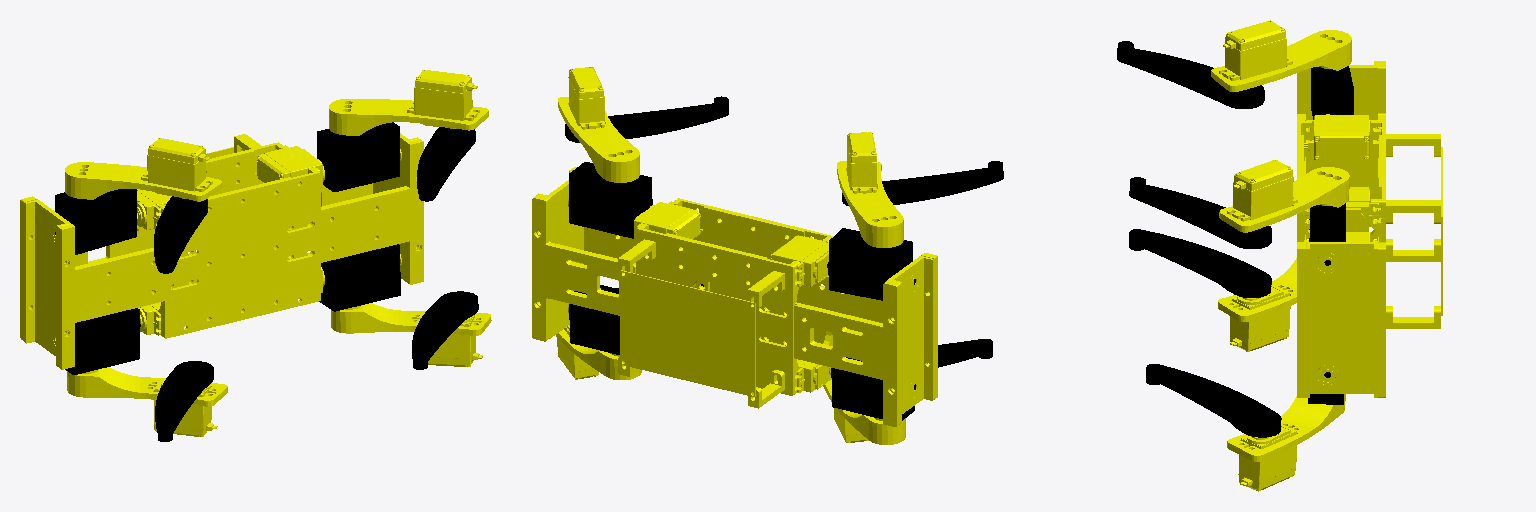
robot.urdf — NCKH_AN_and_NHAN:
<?xml version="1.0" encoding="utf-8"?>
<!-- This URDF was automatically created by SolidWorks to URDF Exporter! Originally created by [author] ([email redacted]) 
     Commit Version: 1.6.0-4-g7f85cfe  Build Version: 1.6.7995.38578
     For more information, please see http://wiki.ros.org/sw_urdf_exporter -->
<robot
  name="NCKH_AN_and_NHAN">
  <link
    name="base_link">
    <inertial>
      <origin
        xyz="-2.06930624298254E-05 0.0314717667121343 -7.1652482863914E-05"
        rpy="-1.570796 3.141593 0" />
      <mass
        value="0.466823121650161" />
      <inertia
        ixx="0.00031602679934993"
        ixy="9.49707580620035E-09"
        ixz="-1.57354450694799E-10"
        iyy="0.000666280699222349"
        iyz="-1.95989888879497E-21"
        izz="0.000429277643250015" />
    </inertial>
    <visual>
      <origin
        xyz="0 0 0"
        rpy="0 0 0" />
      <geometry>
        <mesh
          filename="package://NCKH_AN_and_NHAN/meshes/base_link.STL" />
      </geometry>
      <material
        name="yellow">
        <color
          rgba="1 1 0 1" />
      </material>
    </visual>
    <collision>
      <origin
        xyz="0 0 0"
        rpy="0 0 0" />
      <geometry>
        <mesh
          filename="package://NCKH_AN_and_NHAN/meshes/base_link.STL" />
      </geometry>
    </collision>
  </link>
  <link
    name="wheel1">
    <inertial>
      <origin
        xyz="0.0376546399921932 2.95915550945838E-05 0.00695809139390947"
        rpy="0 0 0" />
      <mass
        value="0.0485512367202346" />
      <inertia
        ixx="8.94595002943724E-06"
        ixy="5.5386583024537E-10"
        ixz="1.3023102901899E-07"
        iyy="1.85801782098987E-05"
        iyz="-1.68966995950272E-08"
        izz="1.4607199563483E-05" />
    </inertial>
    <visual>
      <origin
        xyz="0 0 0"
        rpy="0 0 0" />
      <geometry>
        <mesh
          filename="package://NCKH_AN_and_NHAN/meshes/wheel1.STL" />
      </geometry>
      <material
        name="black">
        <color
          rgba="0 0 0 1" />
      </material>
    </visual>
    <collision>
      <origin
        xyz="0 0 0"
        rpy="0 0 0" />
      <geometry>
        <mesh
          filename="package://NCKH_AN_and_NHAN/meshes/wheel1.STL" />
      </geometry>
    </collision>
  </link>
  <link
    name="wheel1.1">
    <inertial>
      <origin
        xyz="0.0326167772045229 -0.0409063788365546 0.00326118693431166"
        rpy="0 0 0" />
      <mass
        value="0.0586013806261611" />
      <inertia
        ixx="2.42073104193029E-05"
        ixy="1.2484076562072E-05"
        ixz="-1.31000464940237E-06"
        iyy="1.74922513973027E-05"
        iyz="1.53621522135486E-06"
        izz="3.25882087154268E-05" />
    </inertial>
    <visual>
      <origin
        xyz="0 0 0"
        rpy="0 0 0" />
      <geometry>
        <mesh
          filename="package://NCKH_AN_and_NHAN/meshes/wheel1.1.STL" />
      </geometry>
      <material
        name="yellow">
      </material>
    </visual>
    <collision>
      <origin
        xyz="0 0 0"
        rpy="0 0 0" />
      <geometry>
        <mesh
          filename="package://NCKH_AN_and_NHAN/meshes/wheel1.1.STL" />
      </geometry>
    </collision>
  </link>
  <link
    name="wheel1.2">
    <inertial>
      <origin
        xyz="-0.0256323732966148 -0.0336676766551409 -0.00674833913750822"
        rpy="0 0 0" />
      <mass
        value="0.0244253480243519" />
      <inertia
        ixx="2.14587507838223E-05"
        ixy="-1.39714823081407E-05"
        ixz="1.07320268759818E-08"
        iyy="1.13439089219117E-05"
        iyz="6.09957033675581E-08"
        izz="3.25317818276034E-05" />
    </inertial>
    <visual>
      <origin
        xyz="0 0 0"
        rpy="0 0 0" />
      <geometry>
        <mesh
          filename="package://NCKH_AN_and_NHAN/meshes/wheel1.2.STL" />
      </geometry>
      <material
        name="black">
      </material>
    </visual>
    <collision>
      <origin
        xyz="0 0 0"
        rpy="0 0 0" />
      <geometry>
        <mesh
          filename="package://NCKH_AN_and_NHAN/meshes/wheel1.2.STL" />
      </geometry>
    </collision>
  </link>
  <link
    name="wheel2">
    <inertial>
      <origin
        xyz="-0.0377509355922704 0.000154458556637992 0.00695643953776238"
        rpy="0 0 0" />
      <mass
        value="0.0485512367210368" />
      <inertia
        ixx="8.94595002825872E-06"
        ixy="-4.40959895425951E-09"
        ixz="-1.98598491017381E-07"
        iyy="1.86198269215805E-05"
        iyz="-8.81744174576194E-08"
        izz="1.46506201499069E-05" />
    </inertial>
    <visual>
      <origin
        xyz="0 0 0"
        rpy="0 0 0" />
      <geometry>
        <mesh
          filename="package://NCKH_AN_and_NHAN/meshes/wheel2.STL" />
      </geometry>
      <material
        name="black">
      </material>
    </visual>
    <collision>
      <origin
        xyz="0 0 0"
        rpy="0 0 0" />
      <geometry>
        <mesh
          filename="package://NCKH_AN_and_NHAN/meshes/wheel2.STL" />
      </geometry>
    </collision>
  </link>
  <link
    name="wheel2.1">
    <inertial>
      <origin
        xyz="0.0405617265917802 -0.0331892618811079 0.00385223908064193"
        rpy="0 0 0" />
      <mass
        value="0.0584560819715106" />
      <inertia
        ixx="1.87591480437266E-05"
        ixy="1.26982610846214E-05"
        ixz="-1.81524325395658E-06"
        iyy="2.28852682585367E-05"
        iyz="1.38665370525832E-06"
        izz="3.24529801909875E-05" />
    </inertial>
    <visual>
      <origin
        xyz="0 0 0"
        rpy="0 0 0" />
      <geometry>
        <mesh
          filename="package://NCKH_AN_and_NHAN/meshes/wheel2.1.STL" />
      </geometry>
      <material
        name="yellow">
      </material>
    </visual>
    <collision>
      <origin
        xyz="0 0 0"
        rpy="0 0 0" />
      <geometry>
        <mesh
          filename="package://NCKH_AN_and_NHAN/meshes/wheel2.1.STL" />
      </geometry>
    </collision>
  </link>
  <link
    name="wheel2.2">
    <inertial>
      <origin
        xyz="-0.0298704640605857 -0.0299766235167066 -0.00422347846447647"
        rpy="0 0 0" />
      <mass
        value="0.0244512661636109" />
      <inertia
        ixx="1.75981230081107E-05"
        ixy="-1.48344361637171E-05"
        ixz="2.74368453439243E-07"
        iyy="1.52618120725948E-05"
        iyz="3.59361354474809E-07"
        izz="3.25737862138548E-05" />
    </inertial>
    <visual>
      <origin
        xyz="0 0 0"
        rpy="0 0 0" />
      <geometry>
        <mesh
          filename="package://NCKH_AN_and_NHAN/meshes/wheel2.2.STL" />
      </geometry>
      <material
        name="black">
      </material>
    </visual>
    <collision>
      <origin
        xyz="0 0 0"
        rpy="0 0 0" />
      <geometry>
        <mesh
          filename="package://NCKH_AN_and_NHAN/meshes/wheel2.2.STL" />
      </geometry>
    </collision>
  </link>
  <link
    name="wheel3">
    <inertial>
      <origin
        xyz="0.0376546399932008 -0.000194069662087827 -0.00695544717455106"
        rpy="0 0 0" />
      <mass
        value="0.0485512367213061" />
      <inertia
        ixx="8.9459500278715E-06"
        ixy="-3.63231987734262E-09"
        ixz="-1.30181542689937E-07"
        iyy="1.85771593477179E-05"
        iyz="-1.10771177579481E-07"
        izz="1.46102184243876E-05" />
    </inertial>
    <visual>
      <origin
        xyz="0 0 0"
        rpy="0 0 0" />
      <geometry>
        <mesh
          filename="package://NCKH_AN_and_NHAN/meshes/wheel3.STL" />
      </geometry>
      <material
        name="black">
      </material>
    </visual>
    <collision>
      <origin
        xyz="0 0 0"
        rpy="0 0 0" />
      <geometry>
        <mesh
          filename="package://NCKH_AN_and_NHAN/meshes/wheel3.STL" />
      </geometry>
    </collision>
  </link>
  <link
    name="wheel3.1">
    <inertial>
      <origin
        xyz="0.0409085324203588 -0.032546684342734 -0.00216566306140553"
        rpy="0 0 0" />
      <mass
        value="0.0587113268232687" />
      <inertia
        ixx="1.84154062019393E-05"
        ixy="1.27656756591413E-05"
        ixz="1.19671034086375E-06"
        iyy="2.32780108507993E-05"
        iyz="-8.86941989619872E-07"
        izz="3.27261926629517E-05" />
    </inertial>
    <visual>
      <origin
        xyz="0 0 0"
        rpy="0 0 0" />
      <geometry>
        <mesh
          filename="package://NCKH_AN_and_NHAN/meshes/wheel3.1.STL" />
      </geometry>
      <material
        name="yellow">
      </material>
    </visual>
    <collision>
      <origin
        xyz="0 0 0"
        rpy="0 0 0" />
      <geometry>
        <mesh
          filename="package://NCKH_AN_and_NHAN/meshes/wheel3.1.STL" />
      </geometry>
    </collision>
  </link>
  <link
    name="wheel3.2">
    <inertial>
      <origin
        xyz="-0.0299207598961442 -0.0296771809990849 0.00571781481646289"
        rpy="0 0 0" />
      <mass
        value="0.0244512661586145" />
      <inertia
        ixx="1.75481181214615E-05"
        ixy="-1.48334275113458E-05"
        ixz="4.68940533968834E-07"
        iyy="1.53192365452258E-05"
        iyz="5.067406505001E-07"
        izz="3.25663666788307E-05" />
    </inertial>
    <visual>
      <origin
        xyz="0 0 0"
        rpy="0 0 0" />
      <geometry>
        <mesh
          filename="package://NCKH_AN_and_NHAN/meshes/wheel3.2.STL" />
      </geometry>
      <material
        name="black">
      </material>
    </visual>
    <collision>
      <origin
        xyz="0 0 0"
        rpy="0 0 0" />
      <geometry>
        <mesh
          filename="package://NCKH_AN_and_NHAN/meshes/wheel3.2.STL" />
      </geometry>
    </collision>
  </link>
  <link
    name="wheel4">
    <inertial>
      <origin
        xyz="-0.0373348708831581 -0.000314126486332954 -0.00677907103186814"
        rpy="0 0 0" />
      <mass
        value="0.0482153982657156" />
      <inertia
        ixx="8.92090516184435E-06"
        ixy="8.2305889635407E-09"
        ixz="1.77622250097246E-07"
        iyy="1.84831778051894E-05"
        iyz="-1.84417470580417E-07"
        izz="1.45118643751175E-05" />
    </inertial>
    <visual>
      <origin
        xyz="0 0 0"
        rpy="0 0 0" />
      <geometry>
        <mesh
          filename="package://NCKH_AN_and_NHAN/meshes/wheel4.STL" />
      </geometry>
      <material
        name="black">
      </material>
    </visual>
    <collision>
      <origin
        xyz="0 0 0"
        rpy="0 0 0" />
      <geometry>
        <mesh
          filename="package://NCKH_AN_and_NHAN/meshes/wheel4.STL" />
      </geometry>
    </collision>
  </link>
  <link
    name="wheel4.1">
    <inertial>
      <origin
        xyz="0.0442410602374218 -0.0278752579218581 -0.00178420133232522"
        rpy="0 0 0" />
      <mass
        value="0.0587113266853458" />
      <inertia
        ixx="1.56844836492885E-05"
        ixy="1.19427860432043E-05"
        ixz="1.11795365787776E-06"
        iyy="2.59901182518855E-05"
        iyz="-6.61230339548773E-07"
        izz="3.27450086684504E-05" />
    </inertial>
    <visual>
      <origin
        xyz="0 0 0"
        rpy="0 0 0" />
      <geometry>
        <mesh
          filename="package://NCKH_AN_and_NHAN/meshes/wheel4.1.STL" />
      </geometry>
      <material
        name="yellow">
      </material>
    </visual>
    <collision>
      <origin
        xyz="0 0 0"
        rpy="0 0 0" />
      <geometry>
        <mesh
          filename="package://NCKH_AN_and_NHAN/meshes/wheel4.1.STL" />
      </geometry>
    </collision>
  </link>
  <link
    name="wheel4.2">
    <inertial>
      <origin
        xyz="-0.0319285525953966 -0.0274091773325302 0.00616318740578134"
        rpy="0 0 0" />
      <mass
        value="0.0244512661578749" />
      <inertia
        ixx="1.54715718726678E-05"
        ixy="-1.48338848949562E-05"
        ixz="7.44084947687132E-07"
        iyy="1.74154716857695E-05"
        iyz="7.23944229842359E-07"
        izz="3.254667778828E-05" />
    </inertial>
    <visual>
      <origin
        xyz="0 0 0"
        rpy="0 0 0" />
      <geometry>
        <mesh
          filename="package://NCKH_AN_and_NHAN/meshes/wheel4.2.STL" />
      </geometry>
      <material
        name="black">
      </material>
    </visual>
    <collision>
      <origin
        xyz="0 0 0"
        rpy="0 0 0" />
      <geometry>
        <mesh
          filename="package://NCKH_AN_and_NHAN/meshes/wheel4.2.STL" />
      </geometry>
    </collision>
  </link>



  <joint
    name="wl1.joint1"
    type="revolute">
    <origin
      xyz="-0.15399999986887 0.0196 0.045"
      rpy="0 0 0.09" />
    <parent
      link="base_link" />
    <child
      link="wheel1" />
    <axis
      xyz="-1 0 0" />
    <limit
      lower="-1.571"
      upper="1.571"
      effort="2" 
      velocity="2"/>
  </joint>

  <joint
    name="wl1.joint2"
    type="revolute">
    <origin
      xyz="0.0259999998688681 0.0002058349694006 0.0483995623117133"
      rpy="0 0 0" />
    <parent
      link="wheel1" />
    <child
      link="wheel1.1" />
    <axis
      xyz="0 0 1" />
    <limit
      lower="-1.571"
      upper="1.571"
      effort="2" 
      velocity="2"/>
  </joint>

  <joint
    name="wl1.joint3"
    type="revolute">
    <origin
      xyz="0.0513027822613403 -0.0682732325273144 -0.0121097578836928"
      rpy="0 0 -0.18" />
    <parent
      link="wheel1.1" />
    <child
      link="wheel1.2" />
    <axis
      xyz="0 0 1" />
    <limit
      lower="-1.571"
      upper="1.571"
      effort="2" 
      velocity="2"/>
  </joint>

  <joint
    name="wl3.joint1"
    type="revolute">
    <origin
      xyz="-0.15399999986887 0.01959999990896 -0.0450000002203523"
      rpy="0 0 0" />
    <parent
      link="base_link" />
    <child
      link="wheel3" />
    <axis
      xyz="-1 0 0" />
    <limit
      lower="-1.571"
      upper="1.571"
      effort="2" 
      velocity="2"/>
  </joint>

  <joint
    name="wl3.joint2"
    type="revolute">
    <origin
      xyz="0.0259999998688687 -0.00134992343998969 -0.0483811707706477"
      rpy="0 0 0" />
    <parent
      link="wheel3" />
    <child
      link="wheel3.1" />
    <axis
      xyz="0 0 1" />
    <limit
      lower="-1.571"
      upper="1.571"
      effort="2" 
      velocity="2"/>
  </joint>

  <joint
    name="wl3.joint3"
    type="revolute">
    <origin
      xyz="0.0653334723731154 -0.0545099891517235 0.0159265330137419"
      rpy="0 0 0" />
    <parent
      link="wheel3.1" />
    <child
      link="wheel3.2" />
    <axis
      xyz="0 0 1" />
    <limit
      lower="-1.571"
      upper="1.571"
      effort="2" 
      velocity="2"/>
  </joint>

  <joint
    name="wl2.joint1"
    type="revolute">
    <origin
      xyz="0.15399999986887 0.01959999990896 0.0450000002203523"
      rpy="0 0 0" />
    <parent
      link="base_link" />
    <child
      link="wheel2" />
    <axis
      xyz="-1 0 0" />
    <limit
      lower="-1.571"
      upper="1.571"
      effort="2" 
      velocity="2"/>
  </joint>

  <joint
    name="wl2.joint2"
    type="revolute">
    <origin
      xyz="-0.0463999998688697 0.00107439275227523 0.0483880735211137"
      rpy="0 0 0" />
    <parent
      link="wheel2" />
    <child
      link="wheel2.1" />
    <axis
      xyz="0 0 1" />
    <limit
      lower="-1.571"
      upper="1.571"
      effort="2" 
      velocity="2"/>
  </joint>

  <joint
    name="wl2.joint3"
    type="revolute">
    <origin
      xyz="0.064448995695807 -0.0562739157375935 -0.0131540619143678"
      rpy="0 0 0" />
    <parent
      link="wheel2.1" />
    <child
      link="wheel2.2" />
    <axis
      xyz="0 0 1" />
    <limit
      lower="-1.571"
      upper="1.571"
      effort="2" 
      velocity="2"/>
  </joint>

  <joint
    name="wl4.joint1"
    type="revolute">
    <origin
      xyz="0.1537 0.0196000000000055 -0.0449999999999976"
      rpy="0 0 0" />
    <parent
      link="base_link" />
    <child
      link="wheel4" />
    <axis
      xyz="-1 0 0" />
    <limit
      lower="-1.571"
      upper="1.571"
      effort="2" 
      velocity="2"/>
  </joint>

  <joint
    name="wl4.joint2"
    type="revolute">
    <origin
      xyz="-0.046099999999999 -0.0022403402675502 -0.048348121736899"
      rpy="0 0 0" />
    <parent
      link="wheel4" />
    <child
      link="wheel4.1" />
    <axis
      xyz="0 0 1" />
    <limit
      lower="-1.571"
      upper="1.571"
      effort="2" 
      velocity="2"/>
  </joint>

  <joint
    name="wl4.joint3"
    type="revolute">
    <origin
      xyz="0.0709944461556998 -0.0466734208745271 0.016578189915763"
      rpy="0 0 0" />
    <parent
      link="wheel4.1" />
    <child
      link="wheel4.2" />
    <axis
      xyz="0 0 1" />
    <limit
      lower="-1.571"
      upper="1.571"
      effort="2" 
      velocity="2"/>
  </joint>
</robot>

--- Render facts (derived) ---
3 views of the same robot in one strip: view 1: azimuth 30°, elevation 25°; view 2: azimuth 150°, elevation 25°; view 3: azimuth 270°, elevation 25° (orthographic).
Robot: NCKH_AN_and_NHAN — 13 links, 12 joints (12 revolute); root link base_link; default pose: every joint at zero.
Visible links, largest first — view 1: base_link, wheel2.1, wheel1.1, wheel2, wheel4, wheel4.1, wheel3.1, wheel1, wheel3, wheel3.2, wheel4.2, wheel2.2 (+1 smaller); view 2: base_link, wheel2.1, wheel1.1, wheel2, wheel1, wheel1.2, wheel2.2, wheel3, wheel4, wheel4.1, wheel3.1, wheel3.2; view 3: base_link, wheel1.1, wheel2.1, wheel4.1, wheel3.2, wheel4.2, wheel3.1, wheel1.2, wheel2.2, wheel1, wheel2.
Link boxes in pixels (x1,y1,x2,y2): base_link: (20, 133, 423, 369); wheel2.1: (329, 70, 488, 135); wheel1.1: (65, 138, 221, 201); wheel2: (317, 122, 399, 191); wheel4: (319, 244, 400, 311); wheel4.1: (331, 303, 491, 366); wheel3.1: (67, 367, 227, 436); wheel1: (55, 189, 136, 254); wheel3: (65, 308, 140, 374); wheel3.2: (155, 361, 213, 441); wheel4.2: (412, 291, 478, 369); wheel2.2: (417, 127, 475, 201); base_link: (532, 167, 937, 426); wheel2.1: (558, 67, 639, 182); wheel1.1: (837, 132, 903, 247); wheel2: (569, 162, 652, 238); wheel1: (827, 228, 915, 300); wheel1.2: (842, 161, 1003, 205); wheel2.2: (565, 96, 728, 142); wheel3: (831, 357, 915, 420); wheel4: (569, 285, 619, 354); wheel4.1: (556, 325, 641, 379); wheel3.1: (823, 380, 905, 444); wheel3.2: (938, 339, 992, 367); base_link: (1297, 61, 1442, 397); wheel1.1: (1211, 20, 1351, 91); wheel2.1: (1219, 160, 1349, 232); wheel4.1: (1227, 394, 1345, 491); wheel3.2: (1129, 229, 1271, 297); wheel4.2: (1146, 364, 1281, 437); wheel3.1: (1218, 258, 1296, 351); wheel1.2: (1117, 41, 1264, 108); wheel2.2: (1129, 177, 1271, 248); wheel1: (1311, 66, 1353, 119); wheel2: (1309, 203, 1345, 265).
Bounding box of the posed robot: 0.3669 × 0.2364 × 0.248 m (x, y, z).
Meshes: 13 distinct files referenced, 13 mesh visuals loaded (13 binary STL).
